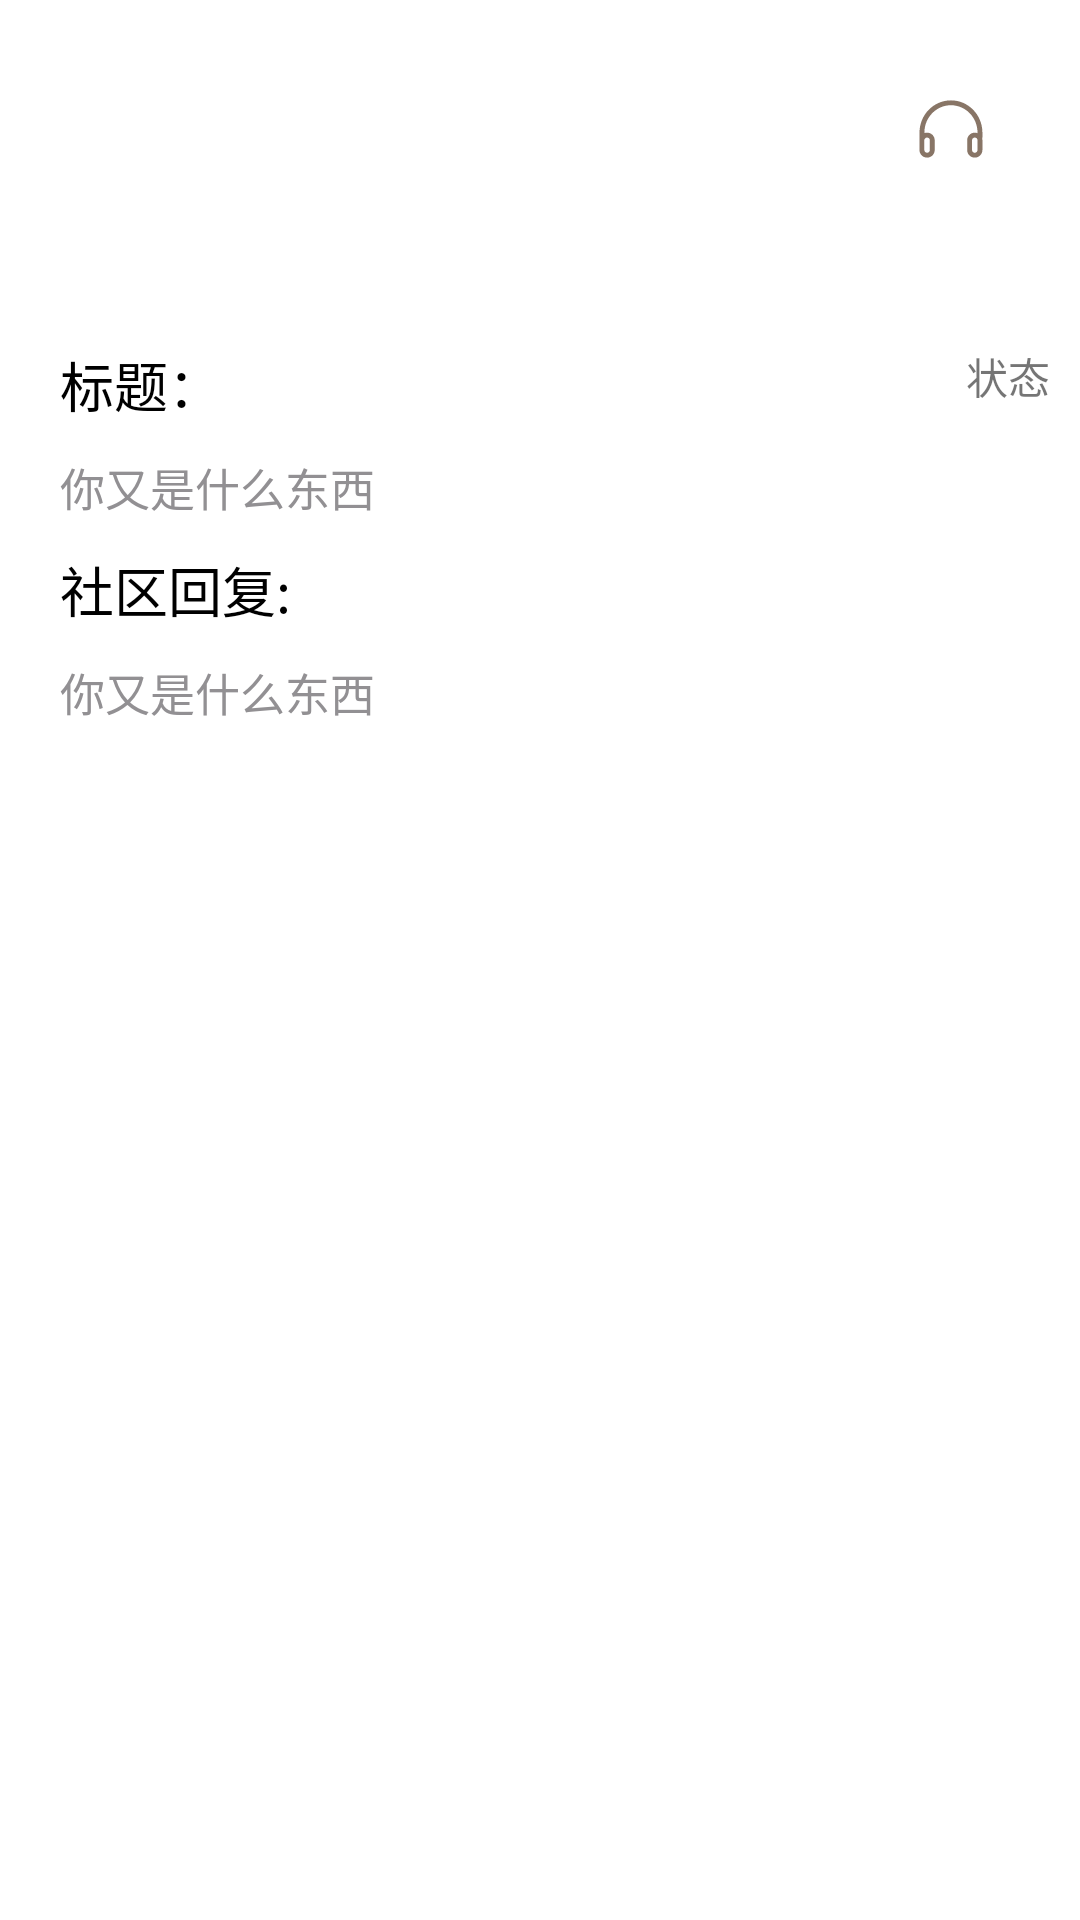

Screen size 1080×1920. Icon name, then its box in pixels as (x1, y1, x2, y2):
speak: (919, 100, 983, 158)
